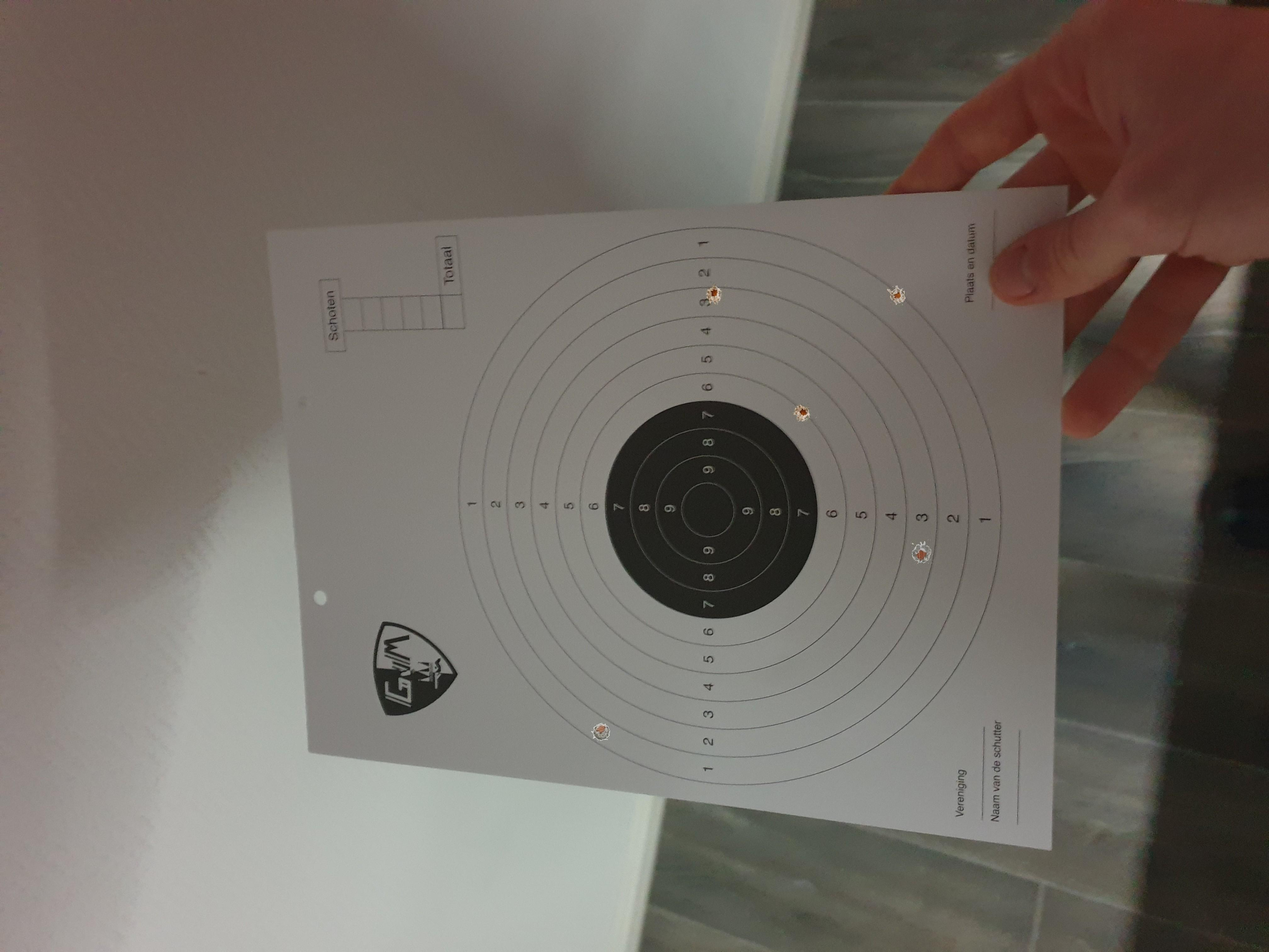hole: (911, 541, 932, 564), (887, 285, 906, 305), (706, 285, 722, 306), (793, 404, 811, 422), (592, 722, 609, 741)
